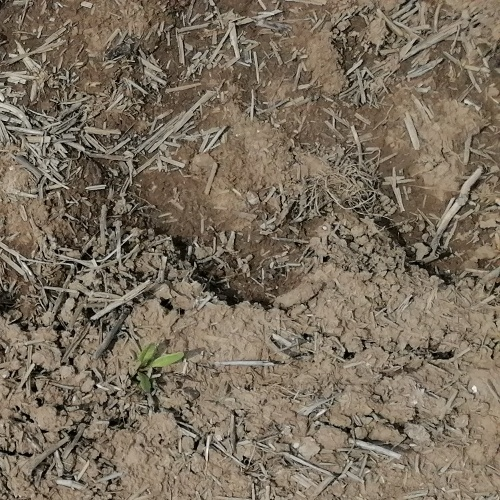beet: (132, 339, 186, 390)
